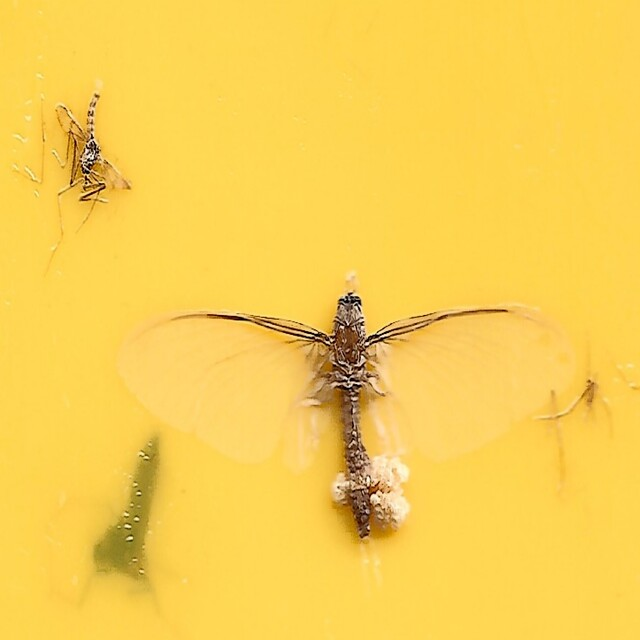Ephemeroptera: (118, 285, 585, 550)
Nematocera: (55, 90, 130, 195)
